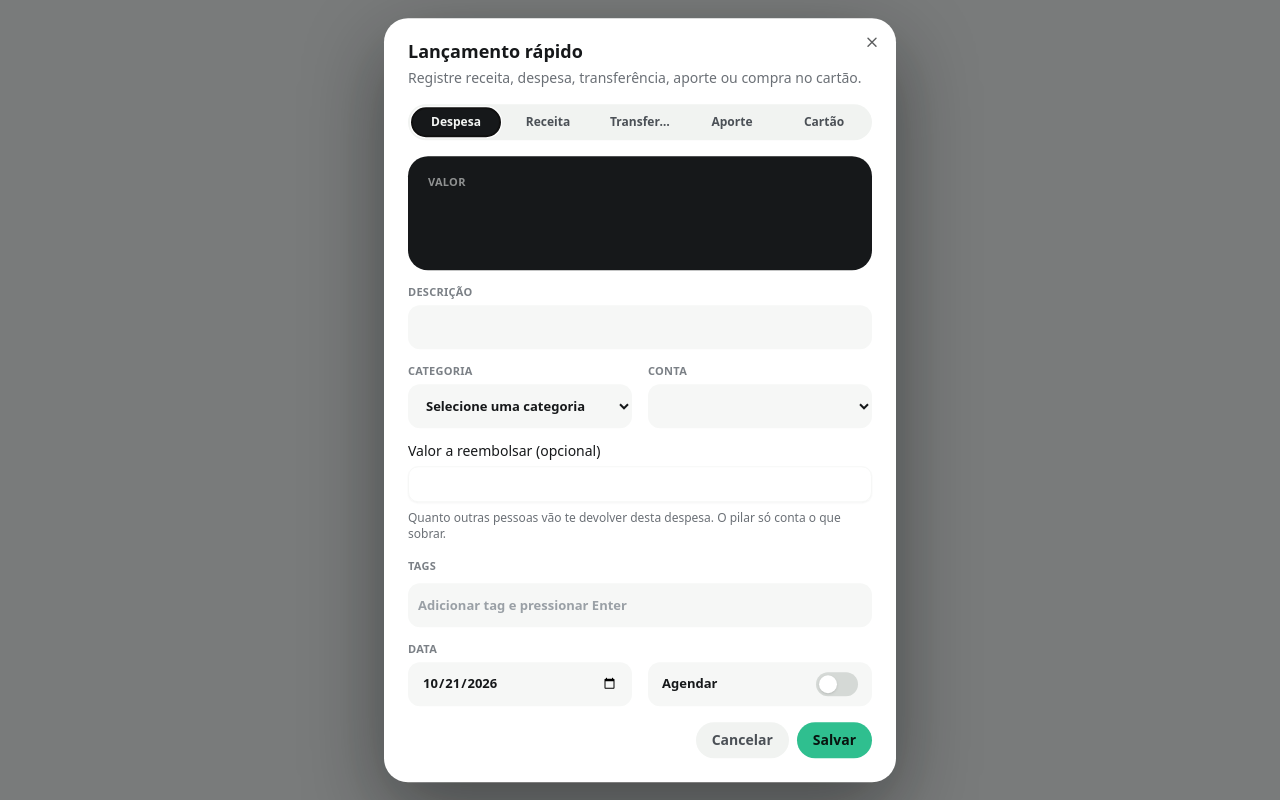
Test: QuickTransactionDialog › blocks submission when the amount is zero or the description is empty
Click the button "Salvar" at {"x": 834, "y": 740}, box 797,722 -> 872,758
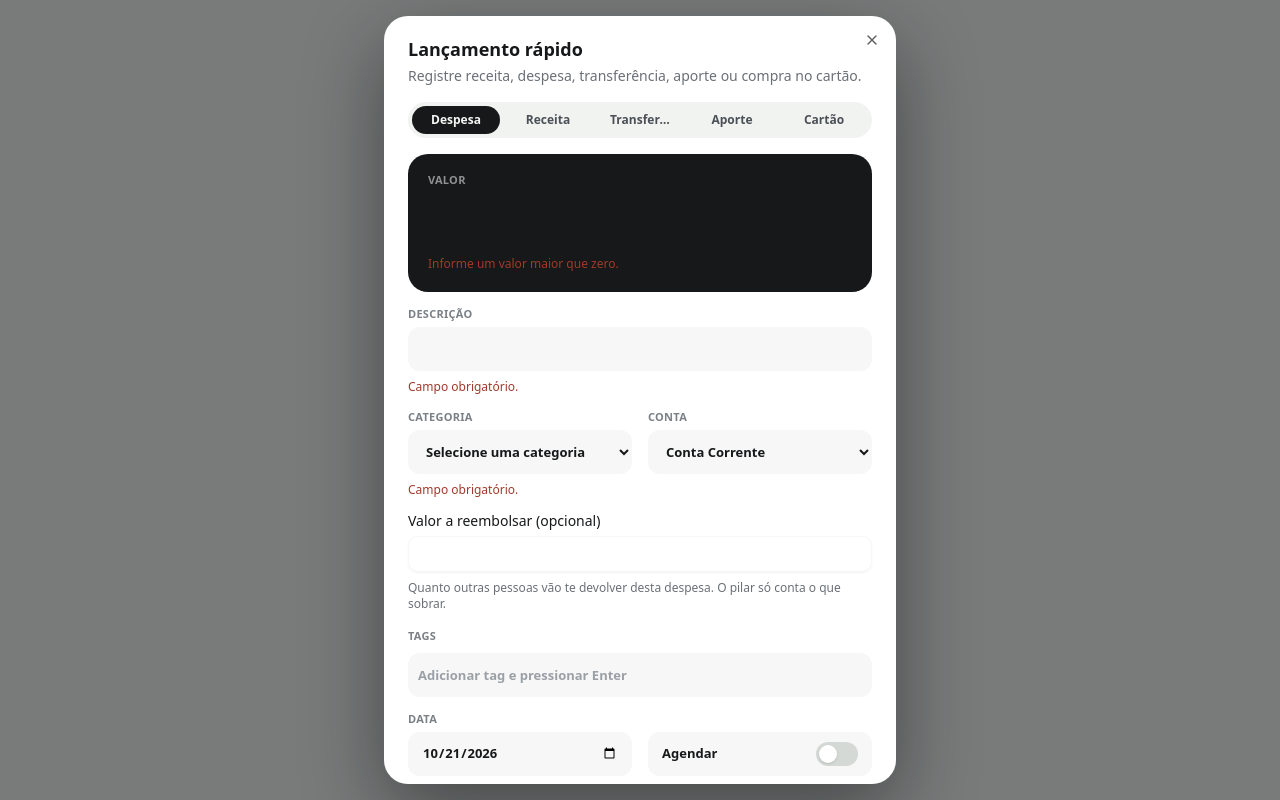
Check: the text "Informe um valor maior que zero." is shown, box 428,255 -> 619,272
Check: the text "Campo obrigatório." below "Descrição" is shown, box 408,378 -> 518,395
